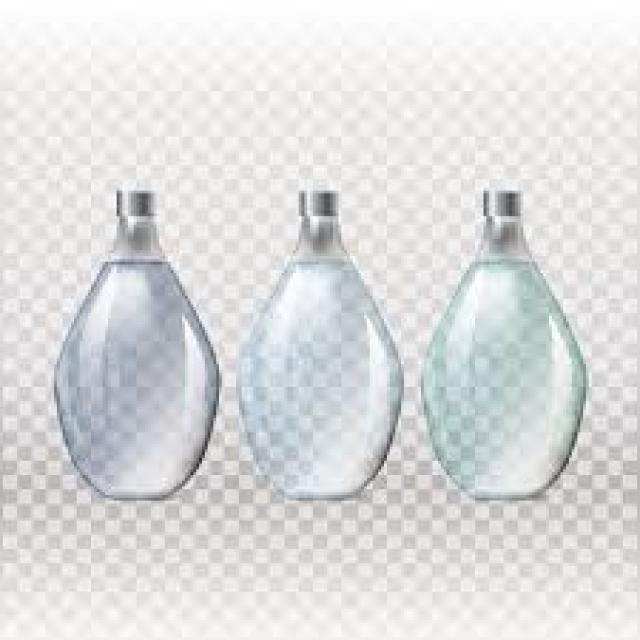glass: (231, 213, 399, 501), (415, 213, 583, 498), (54, 216, 219, 498)
metal: (114, 188, 154, 213), (478, 188, 520, 211), (299, 185, 333, 210)
